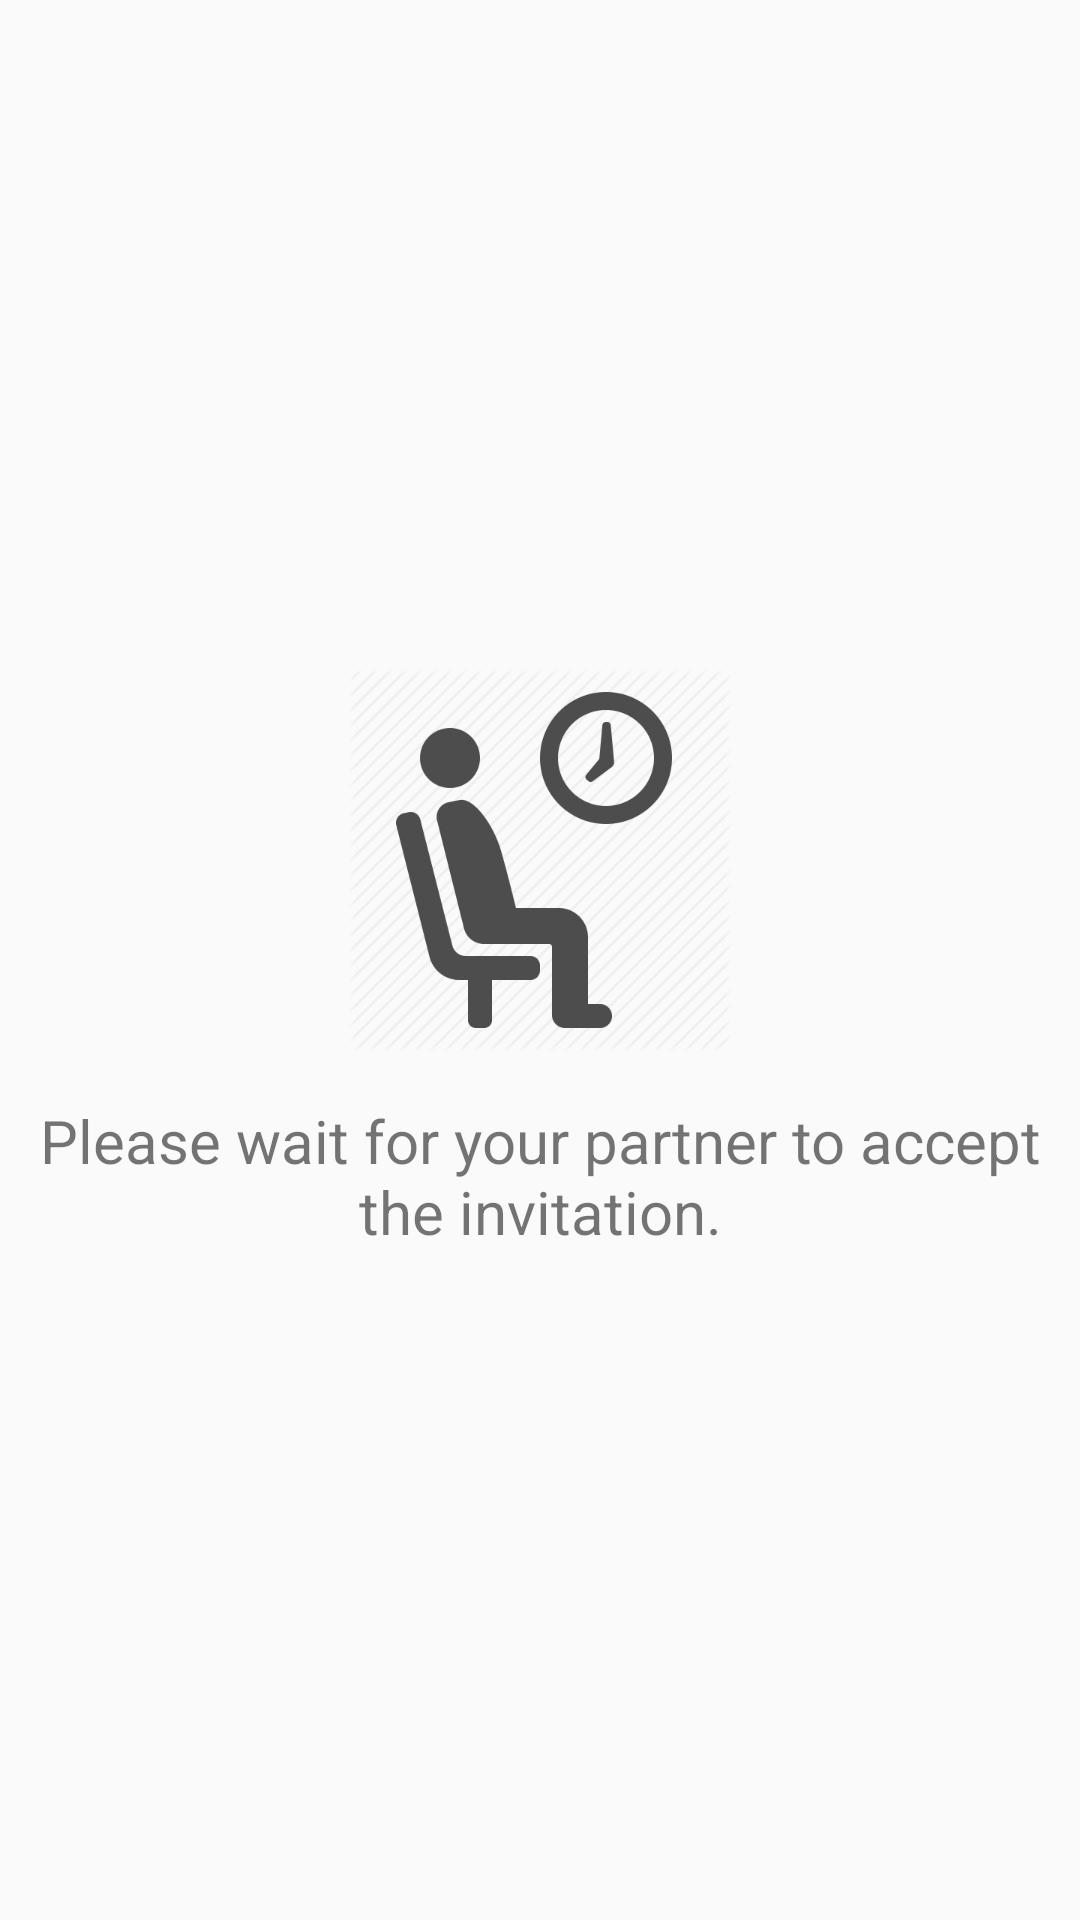

Icons on this 1080×1920 Android screen, each with the point to tap as point (x, y):
Waiting Image Placeholder: point (534, 860)
